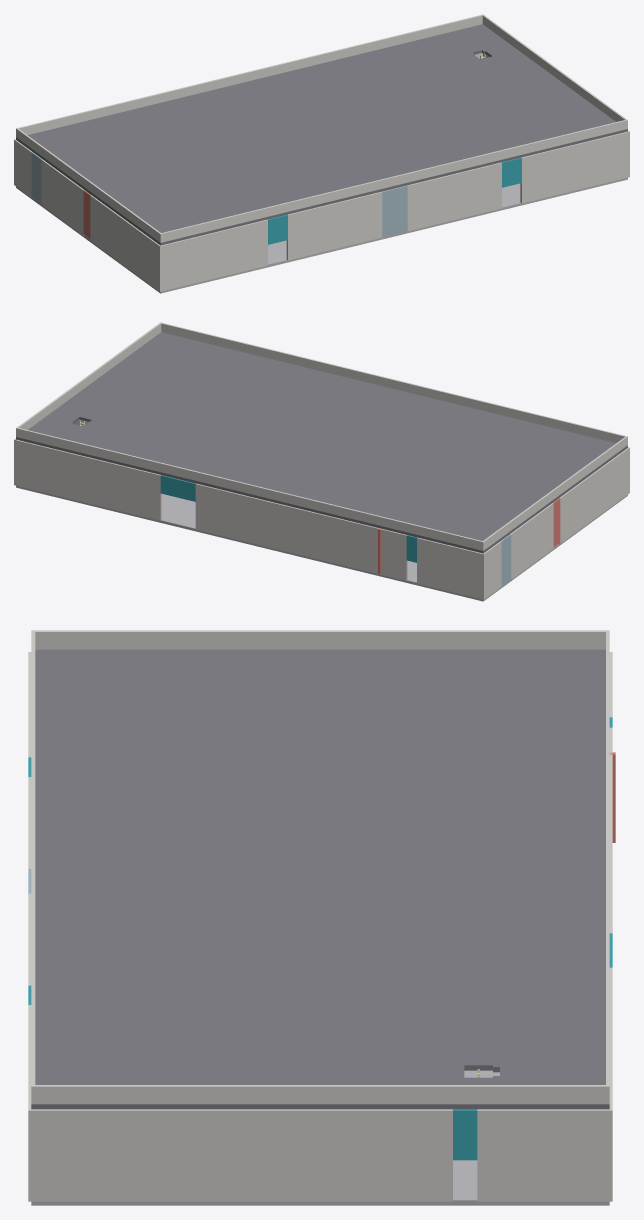
File: airport_terminal_a01.glb
3 renders of one model, top to bottom at view 1: azimuth 30°, elevation 25°; view 2: azimuth 150°, elevation 25°; view 3: azimuth 270°, elevation 25°, orthographic. The views are drawn at different scales.
Visible parts, largest first — view 1: slab_1_t1_2, slab_1_t2_2, slab_1_t2_4, slab_1_t2_8, slab_1_t2_10, slab_1_t3_1, slab_1_t3_7, slab_1_t1_3, slab_1_t1_9, slab_1_t1_10, slab_1_t2_3, slab_1_t2_6 (+124 smaller); view 2: slab_1_t2_1, slab_1_t2_7, slab_1_t3_2, slab_1_t3_4, slab_1_t3_8, slab_1_t3_10, slab_1_t4_2, slab_1_t1_6, slab_1_t2_3, slab_1_t2_5, slab_1_t2_6, slab_1_t2_9 (+123 smaller); view 3: slab_1_t4_10, slab_1_t2_10, slab_1_t1_10, slab_1_t3_10, ext_0_E_seg1, ext_0_E_seg6, ext_0_E_seg8, ext_0_E_seg12, slab_1_t1_1, slab_1_t1_2, slab_1_t1_3, slab_1_t1_4 (+89 smaller).
Boxes of the visible parts, x1,y1,x2,y2 form: slab_1_t1_2: (190,179,252,206); slab_1_t2_2: (166,161,228,188); slab_1_t2_4: (244,142,306,169); slab_1_t2_8: (400,104,462,131); slab_1_t2_10: (478,85,540,112); slab_1_t3_1: (103,153,165,180); slab_1_t3_7: (337,96,399,123); slab_1_t1_3: (229,170,291,196); slab_1_t1_9: (463,112,525,139); slab_1_t1_10: (502,103,564,130); slab_1_t2_3: (205,152,267,178); slab_1_t2_6: (322,123,384,150); slab_1_t2_1: (478,461,540,488); slab_1_t2_7: (244,404,306,431); slab_1_t3_2: (415,469,477,496); slab_1_t3_4: (337,450,399,477); slab_1_t3_8: (181,412,243,439); slab_1_t3_10: (103,393,165,420); slab_1_t4_2: (391,487,453,514); slab_1_t1_6: (307,396,369,423); slab_1_t2_3: (400,442,462,469); slab_1_t2_5: (322,423,384,450); slab_1_t2_6: (283,414,345,440); slab_1_t2_9: (166,385,228,412); slab_1_t4_10: (417,1028,513,1070); slab_1_t2_10: (224,1028,320,1066); slab_1_t1_10: (127,1028,223,1066); slab_1_t3_10: (320,1028,416,1066); ext_0_E_seg1: (72,1109,111,1201); ext_0_E_seg6: (265,1109,304,1201); ext_0_E_seg8: (342,1109,381,1201); ext_0_E_seg12: (515,1109,554,1201); slab_1_t1_1: (127,686,223,723); slab_1_t1_2: (127,724,223,761); slab_1_t1_3: (127,762,223,799); slab_1_t1_4: (127,800,223,837).
Size of what is drawn, in the model's own units: 56.3 by 6.8 by 30.45.
